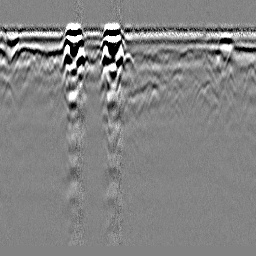cavity: (115, 52, 140, 89)
